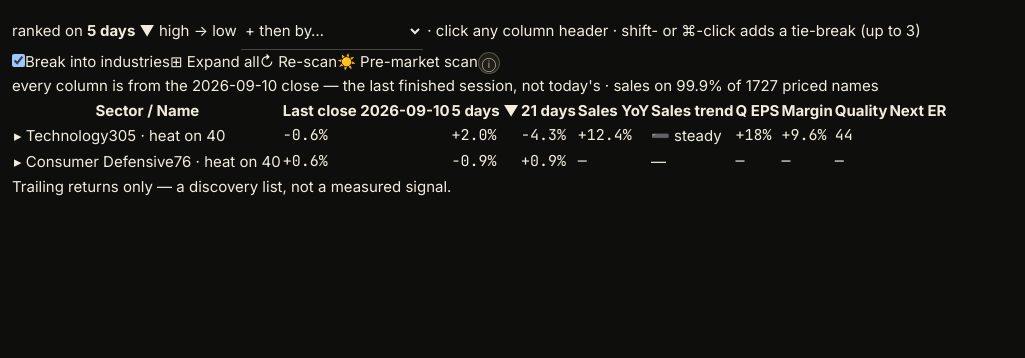
Test: 🔥 Hottest — the 🎯 enterable cut says it is over a server-cut list › NEGATIVE: with the filter off every name comes back and no line is printed
This screenshot has width=1025, height=358.
What coordinates should you click on to do the following:
click the button "▸ Consumer Defensive"
I would click on:
 (94, 161)
Its box is x1=14 y1=150 x2=174 y2=173.
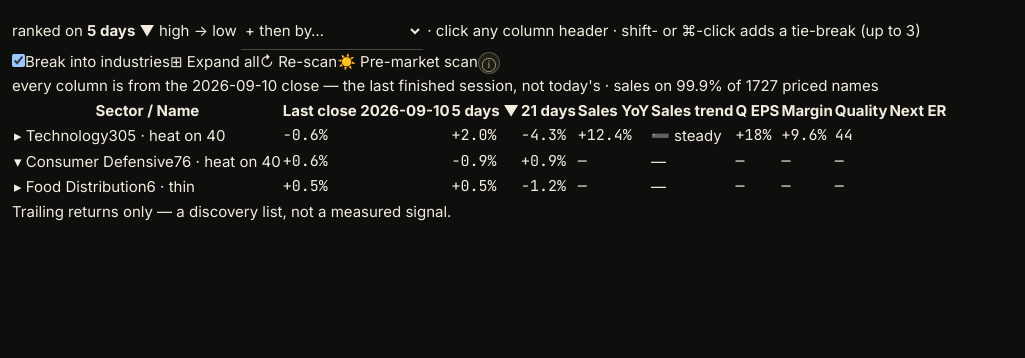
What coordinates should you click on to do the following:
click the button "▸ Food Distribution"
I would click on:
 (80, 187)
Its box is x1=14 y1=175 x2=147 y2=198.
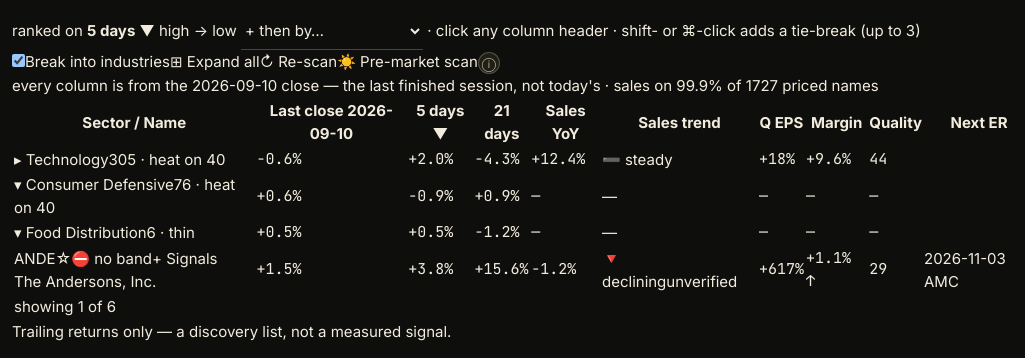
expect the link "ANDE" is shown: met, box x1=14 y1=249 x2=56 y2=268
